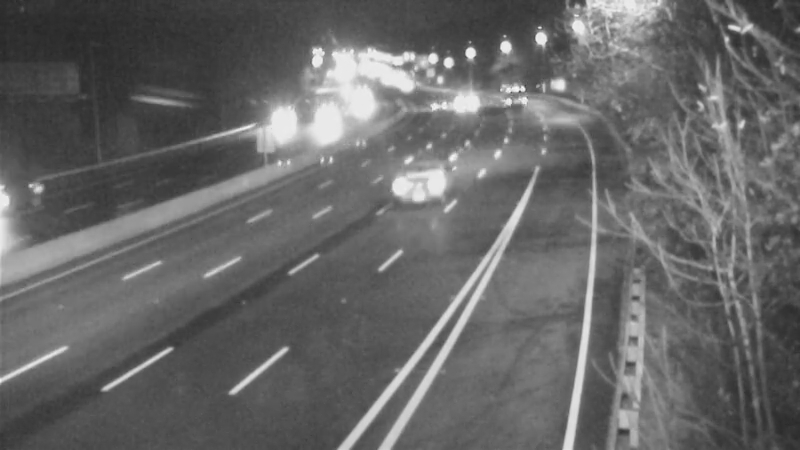vehicle: (380, 150, 460, 230), (1, 155, 70, 235), (488, 70, 538, 120), (435, 76, 485, 126), (417, 82, 467, 132), (292, 108, 342, 158), (249, 100, 299, 150), (336, 79, 386, 129)
